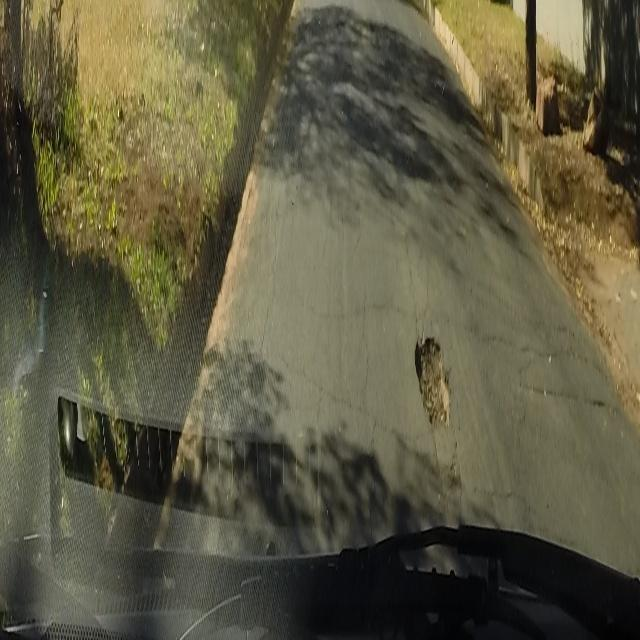pothole: (413, 327, 452, 433)
